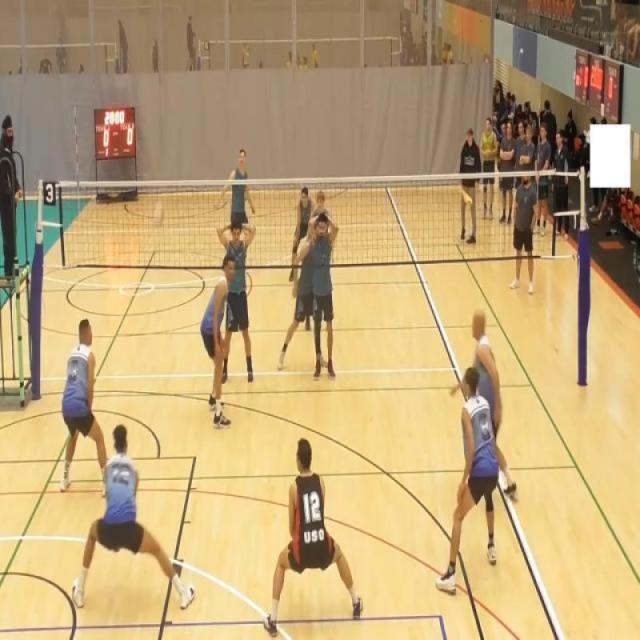volleyball: (153, 201, 165, 228)
